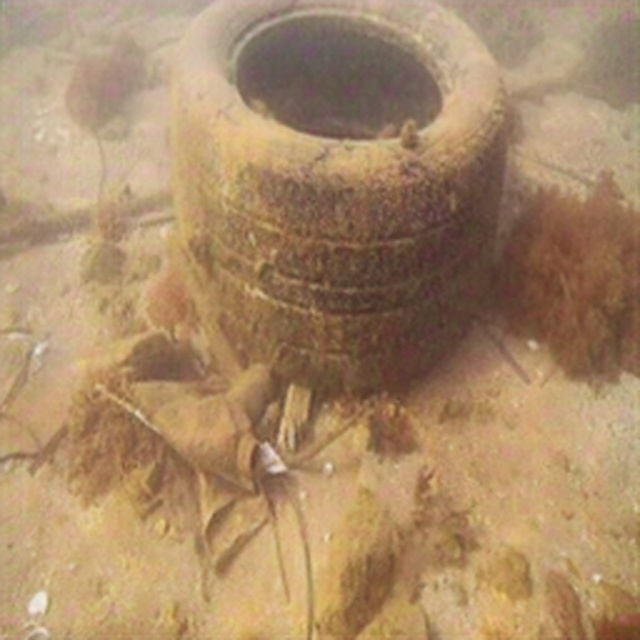mine: (168, 0, 506, 386)
